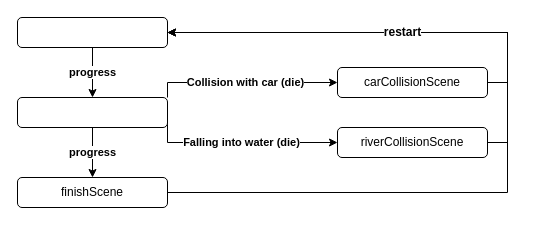
This 533x225 diagram has some shape labels left out. The shapes that lost their labels are listed below. From the top down, each one's centre as x and y in pixels, then its label:
At [92,32]: "HomeStartScene".
At [92,112]: "GameScreen".
